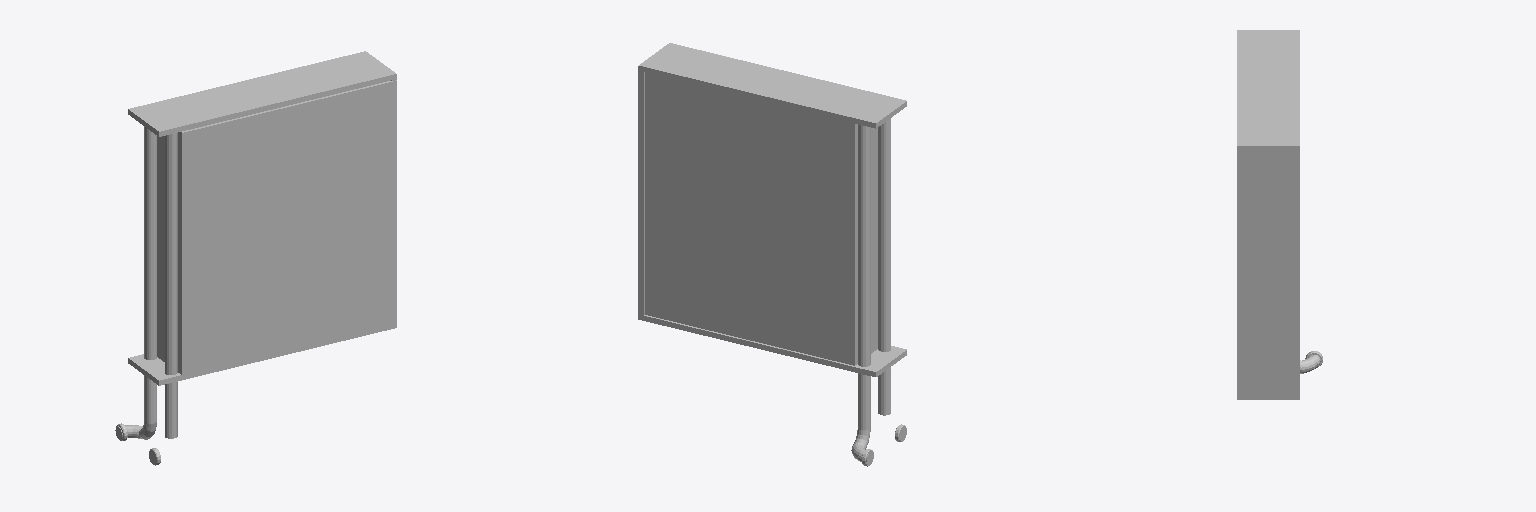
File: heatingCoil.obj
The picture shows the model from 3 angles: view 1: azimuth 30°, elevation 25°; view 2: azimuth 150°, elevation 25°; view 3: azimuth 270°, elevation 25°; orthographic projection.
Parts seen in each view (by area): view 1: HeatingCoil_HeatingCoilGeom; view 2: HeatingCoil_HeatingCoilGeom; view 3: HeatingCoil_HeatingCoilGeom.
Part boxes in pixels (x1,y1,x2,y2): HeatingCoil_HeatingCoilGeom: (115, 51, 396, 465); HeatingCoil_HeatingCoilGeom: (638, 43, 906, 466); HeatingCoil_HeatingCoilGeom: (1237, 30, 1322, 399).
Size of the model in its own units: 1.74 by 2.34 by 0.5436.